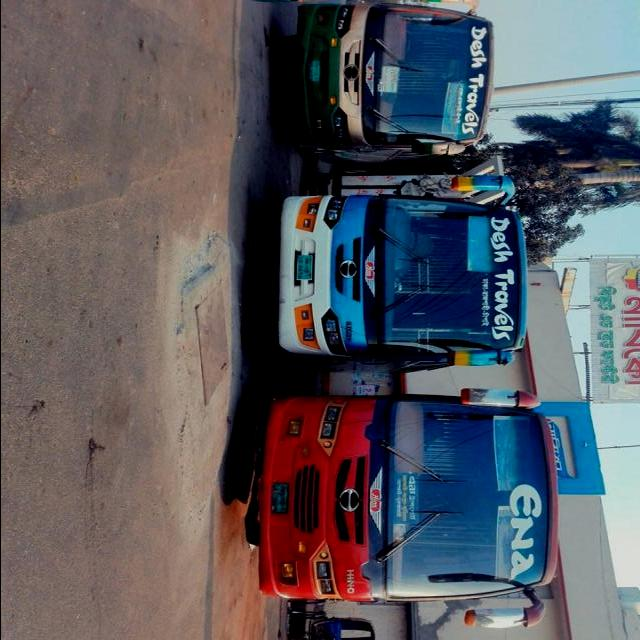bus: (256, 388, 560, 629), (275, 175, 529, 374), (297, 7, 495, 168)
